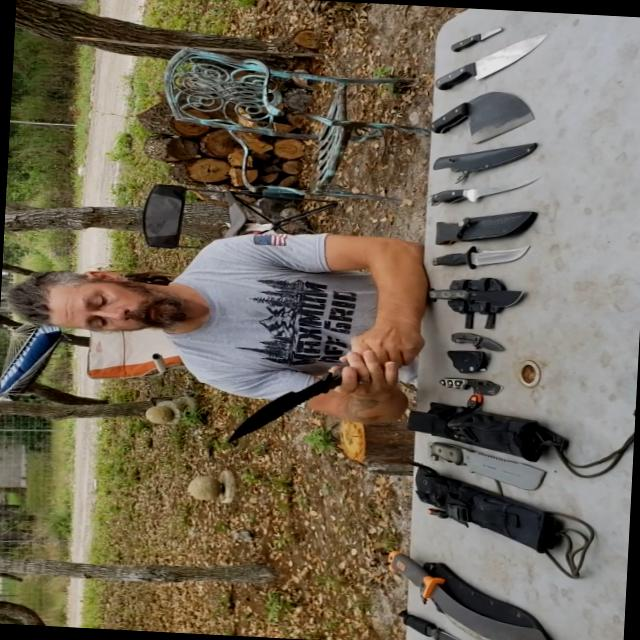knife: (362, 540, 574, 639), (227, 337, 381, 454), (419, 426, 568, 502), (423, 13, 555, 98), (414, 78, 532, 148), (400, 264, 544, 316), (424, 161, 556, 217), (411, 228, 541, 282), (423, 364, 526, 398), (442, 316, 518, 354), (387, 607, 477, 639), (446, 16, 510, 54)
